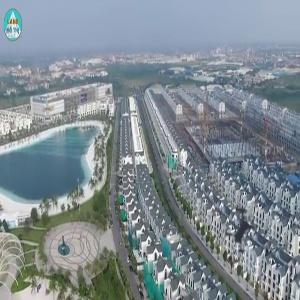drone: (199, 192, 283, 276)
